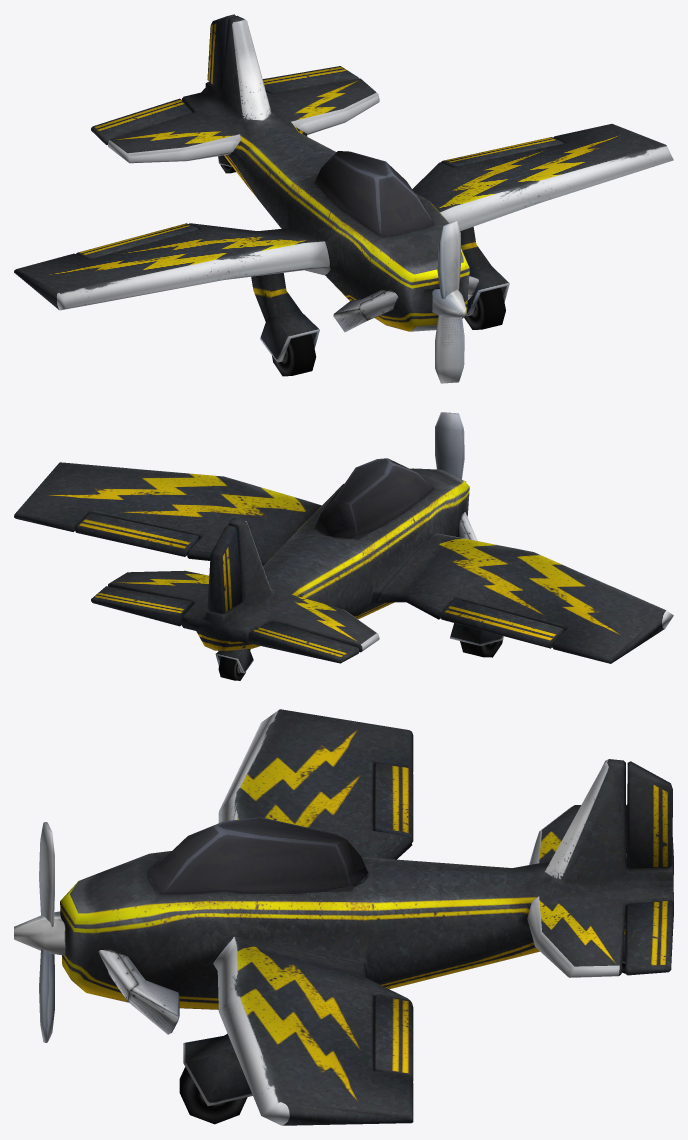
The model's file is ToonAirplane_01.fbx.
3 renders of one model, top to bottom at view 1: azimuth 30°, elevation 25°; view 2: azimuth 150°, elevation 25°; view 3: azimuth 270°, elevation 25°, orthographic. The views are drawn at different scales.
Parts seen in each view (by area): view 1: ToonAirplane_01, Propeller, Ctrl_Elevators, Ctrl_Aileron_R, Ctrl_Rudder, Ctrl_Aileron_L; view 2: ToonAirplane_01, Ctrl_Elevators, Ctrl_Aileron_R, Ctrl_Aileron_L, Ctrl_Rudder, Propeller; view 3: ToonAirplane_01, Ctrl_Rudder, Ctrl_Elevators, Ctrl_Aileron_L, Ctrl_Aileron_R, Propeller.
Part boxes in pixels (x1,y1,x2,y2): ToonAirplane_01: [14, 15, 673, 376]; Propeller: [435, 220, 464, 383]; Ctrl_Elevators: [91, 66, 359, 144]; Ctrl_Aileron_R: [76, 223, 199, 259]; Ctrl_Rudder: [207, 14, 235, 91]; Ctrl_Aileron_L: [441, 137, 564, 167]; ToonAirplane_01: [14, 458, 673, 680]; Ctrl_Elevators: [91, 586, 359, 663]; Ctrl_Aileron_R: [440, 598, 565, 648]; Ctrl_Aileron_L: [75, 513, 199, 556]; Ctrl_Rudder: [207, 525, 242, 613]; Propeller: [435, 412, 464, 479]; ToonAirplane_01: [14, 709, 673, 1125]; Ctrl_Rudder: [627, 761, 672, 868]; Ctrl_Elevators: [625, 804, 673, 975]; Ctrl_Aileron_L: [374, 994, 413, 1081]; Ctrl_Aileron_R: [374, 762, 413, 842]; Propeller: [39, 822, 54, 1042].
Bounding box in the file's own units: 32.01 × 11.13 × 22.69.
